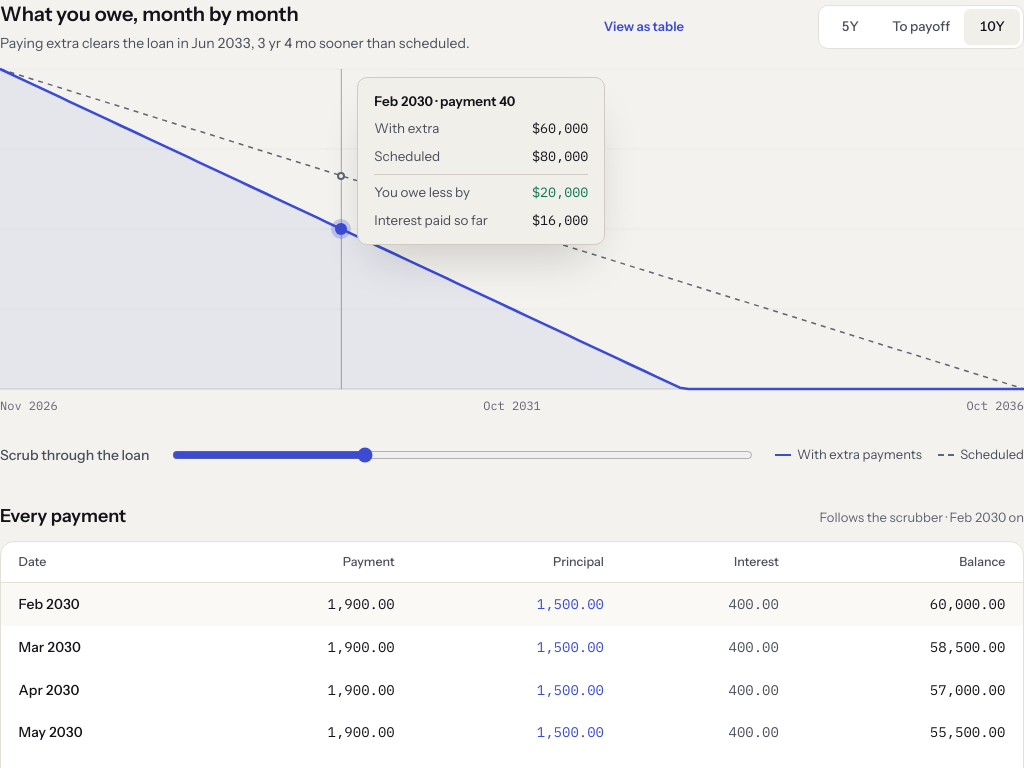
Test case: BalanceChartComponent › lists the payments from the month scrubbed to, in the ledger beneath
Set the slider with test id "scrubber" to "10" at (222, 455), box left=172, top=433, right=753, bottom=477
(page scrolled)
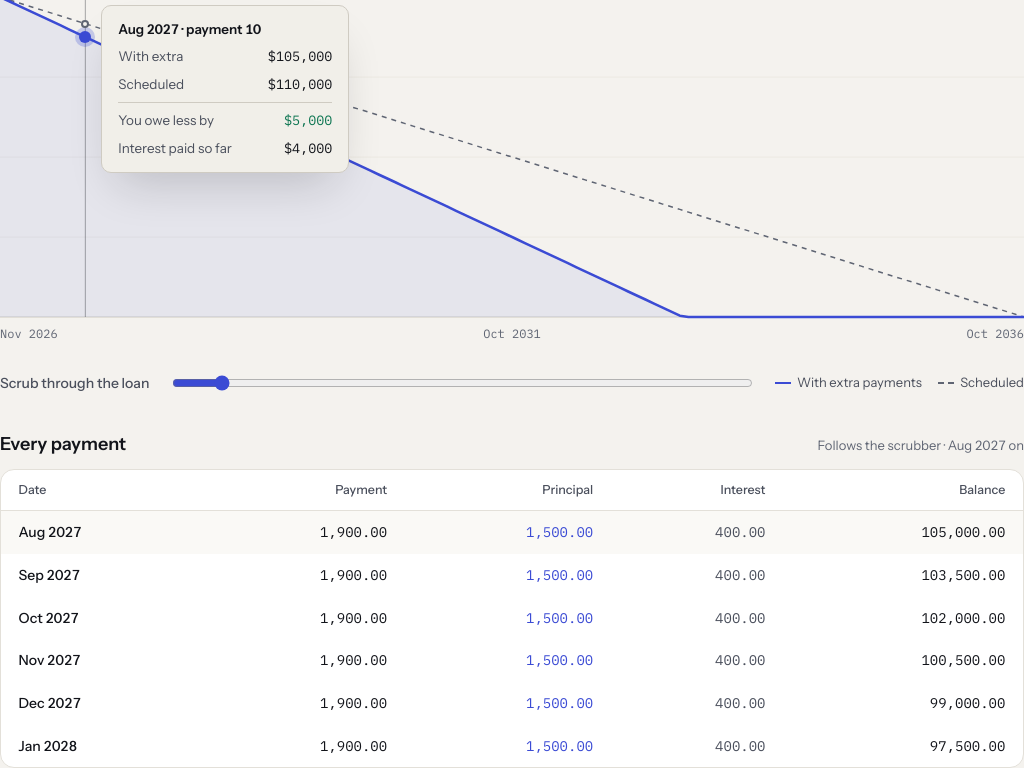
Check: the column heading "Jan 2028" is shown, box left=1, top=725, right=199, bottom=767
